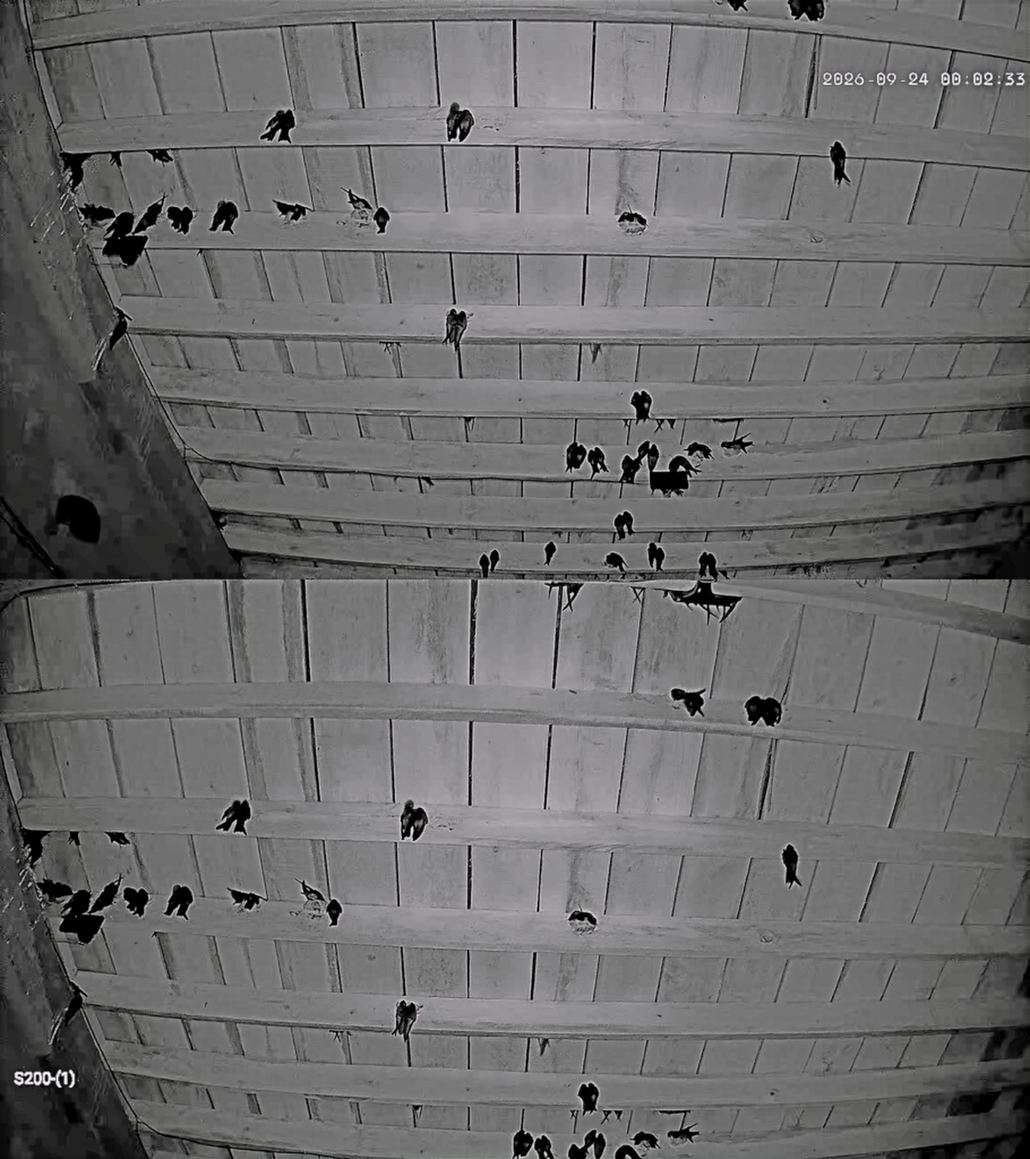swallow bird: (133, 194, 166, 233), (89, 874, 122, 912), (216, 799, 251, 834), (260, 109, 296, 143), (60, 152, 92, 190), (441, 308, 469, 351), (744, 696, 781, 726), (670, 687, 706, 717), (649, 470, 689, 497), (392, 1000, 417, 1043), (165, 884, 193, 920), (21, 828, 48, 865), (109, 307, 131, 351), (829, 141, 851, 185), (209, 200, 239, 232), (228, 887, 264, 912), (782, 844, 802, 887), (38, 879, 73, 903), (346, 188, 373, 218), (294, 879, 326, 904), (166, 207, 194, 235), (105, 211, 134, 238), (123, 887, 149, 917), (788, 0, 825, 21), (274, 200, 309, 222), (80, 203, 115, 225), (63, 889, 91, 916), (63, 990, 83, 1025), (618, 211, 647, 235), (578, 1081, 599, 1114), (630, 391, 652, 422), (668, 455, 699, 476), (587, 446, 608, 477), (456, 108, 475, 142), (619, 455, 641, 484), (566, 440, 587, 470), (720, 436, 753, 455), (446, 102, 462, 141), (513, 1129, 533, 1159), (744, 695, 764, 725), (762, 697, 782, 726), (697, 603, 720, 628), (400, 799, 414, 840), (699, 552, 719, 580), (568, 909, 597, 928), (667, 1125, 698, 1142), (564, 583, 583, 610), (412, 807, 427, 841), (534, 1135, 554, 1159), (648, 543, 665, 571), (634, 1131, 660, 1149), (373, 207, 390, 234), (326, 898, 342, 926), (604, 553, 625, 573), (688, 442, 712, 459), (646, 443, 660, 471), (614, 1144, 640, 1159), (146, 149, 172, 164), (592, 1132, 606, 1159), (668, 455, 690, 472), (106, 831, 130, 846), (568, 1142, 589, 1159), (613, 513, 626, 540), (716, 606, 735, 624), (654, 417, 676, 432), (621, 511, 634, 535), (569, 1108, 581, 1132), (544, 541, 556, 565), (478, 554, 490, 578), (637, 440, 651, 460), (489, 548, 500, 573), (584, 1129, 598, 1148), (631, 586, 644, 606), (656, 1109, 693, 1116), (728, 0, 748, 12), (214, 512, 228, 529), (109, 151, 122, 169), (590, 343, 601, 364), (380, 342, 399, 354), (67, 831, 80, 846), (463, 416, 475, 432), (539, 1038, 549, 1056), (412, 1105, 422, 1123), (418, 477, 434, 488), (602, 1108, 613, 1123), (614, 1109, 623, 1121), (683, 603, 694, 611)
